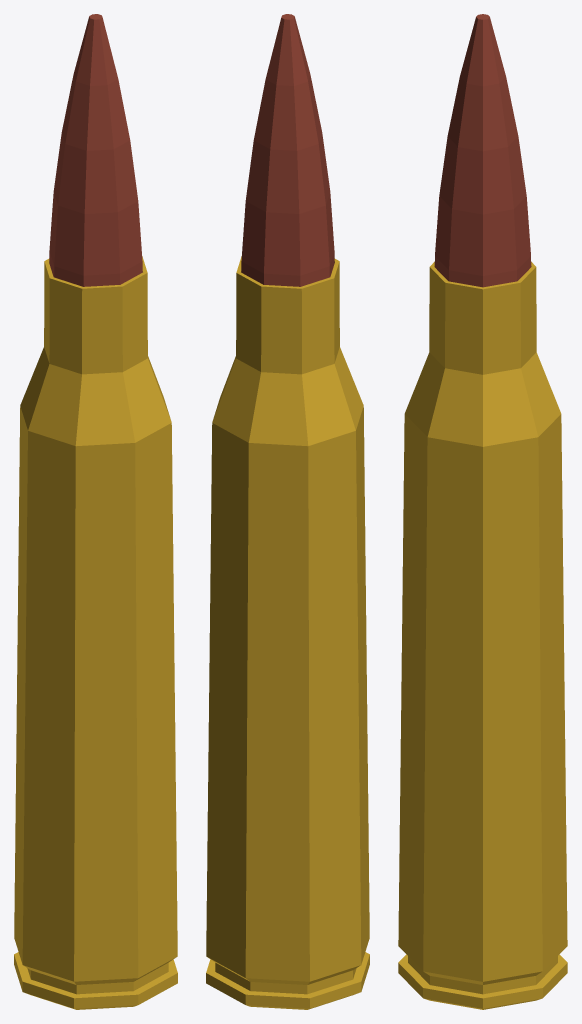
Rendered from 338 Lapua.glb.
The picture shows the model from 3 angles, left to right: view 1: azimuth 30°, elevation 25°; view 2: azimuth 150°, elevation 25°; view 3: azimuth 270°, elevation 25°; orthographic projection.
Parts seen in each view (by area): view 1: 338 Lapua; view 2: 338 Lapua; view 3: 338 Lapua.
Part boxes in pixels (bbox=[...]): 338 Lapua: bbox=[14, 14, 177, 1009]; 338 Lapua: bbox=[206, 14, 369, 1009]; 338 Lapua: bbox=[398, 14, 567, 1009].
Size of the model in its own units: 0.0149 by 0.0935 by 0.0149.
1 material, 1 textured.
